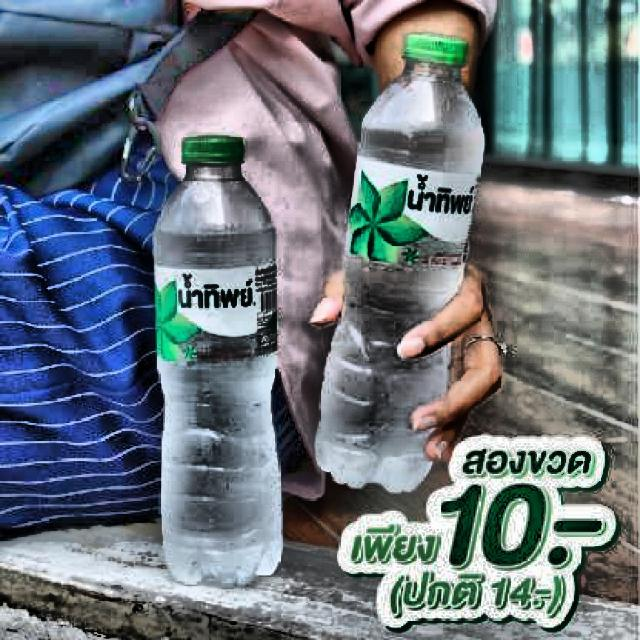Bottles: (310, 35, 495, 502), (136, 124, 310, 597)
